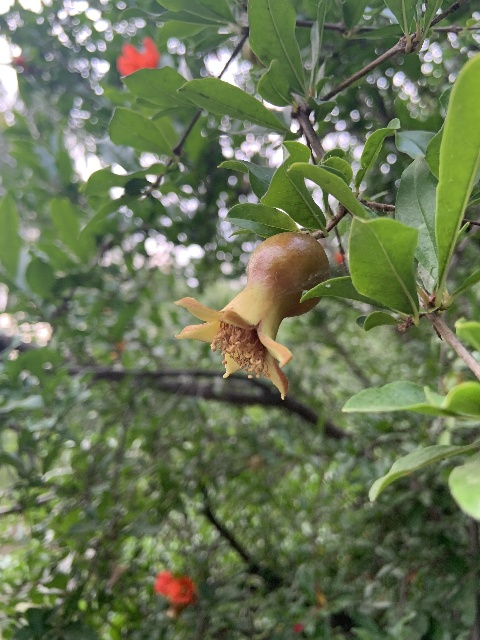early-fruit: (172, 230, 327, 402)
flower: (116, 36, 160, 77), (153, 571, 196, 608)
